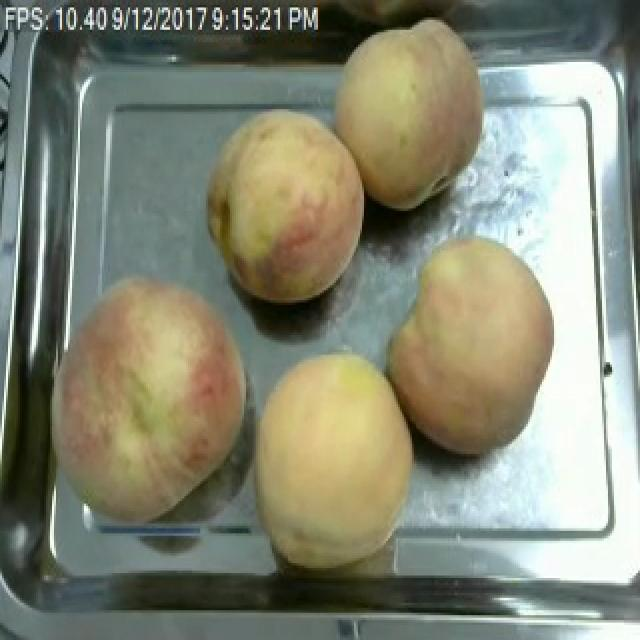Fruit: (32, 266, 262, 534), (230, 337, 428, 578), (380, 228, 564, 462), (200, 99, 374, 310), (322, 7, 494, 216)
